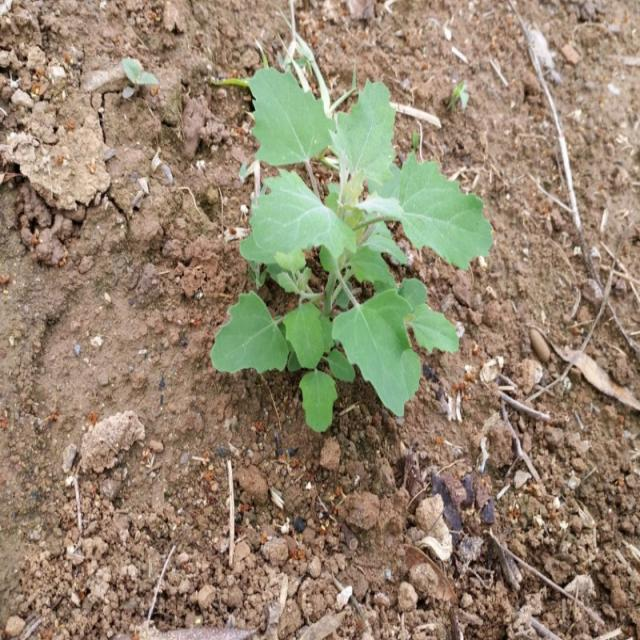ca: (240, 64, 496, 433)
